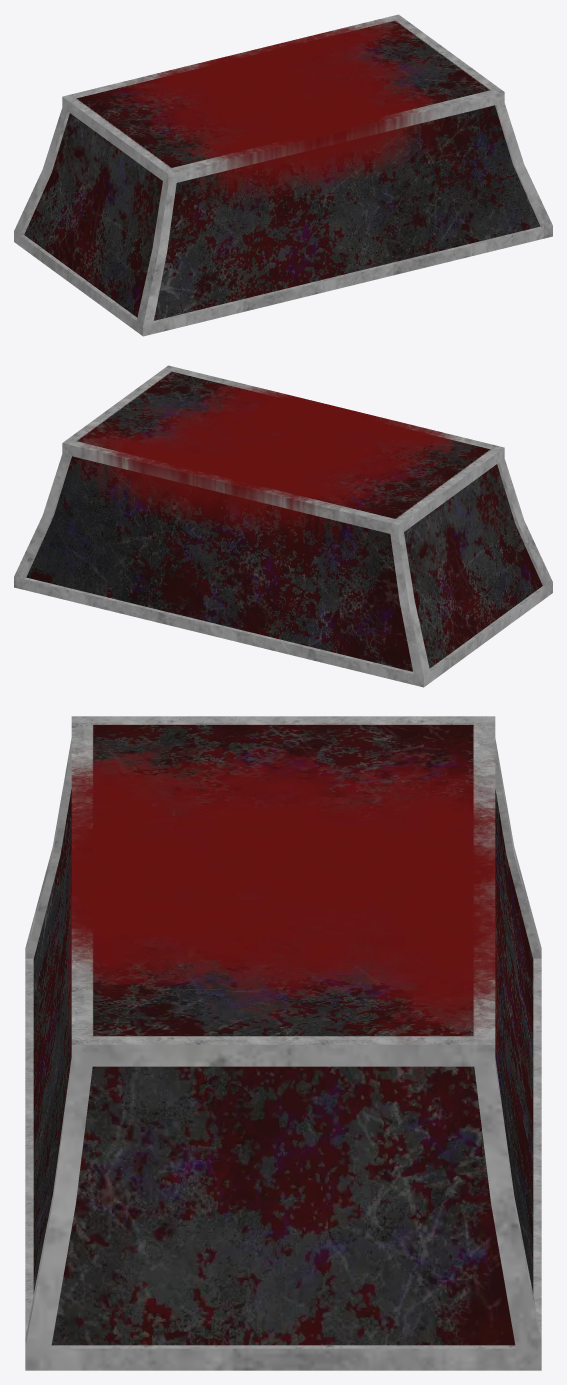
File: sacrificial_altar.glb
The picture shows the model from 3 angles, top to bottom: view 1: azimuth 30°, elevation 25°; view 2: azimuth 150°, elevation 25°; view 3: azimuth 270°, elevation 25°; orthographic projection. The views are drawn at different scales.
Visible parts, largest first — view 1: Altar_Altar_Material_0; view 2: Altar_Altar_Material_0; view 3: Altar_Altar_Material_0.
Part boxes in pixels (x1=…): Altar_Altar_Material_0: x1=14, y1=14, x2=552, y2=336; Altar_Altar_Material_0: x1=14, y1=365, x2=552, y2=687; Altar_Altar_Material_0: x1=25, y1=716, x2=541, y2=1370.
Size of the model in its own units: 246 by 83.22 by 134.
Materials: 1 (1 with a texture image).
